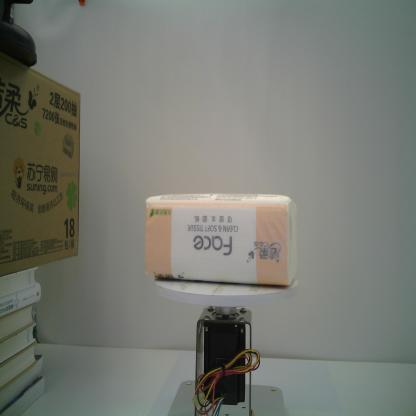Tissue: (145, 192, 298, 287)
